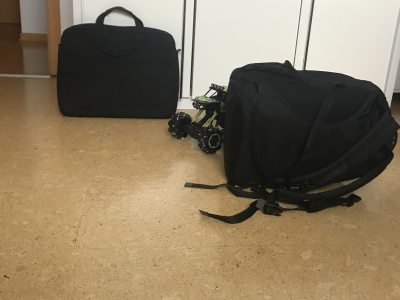remote control car: (168, 78, 235, 155)
